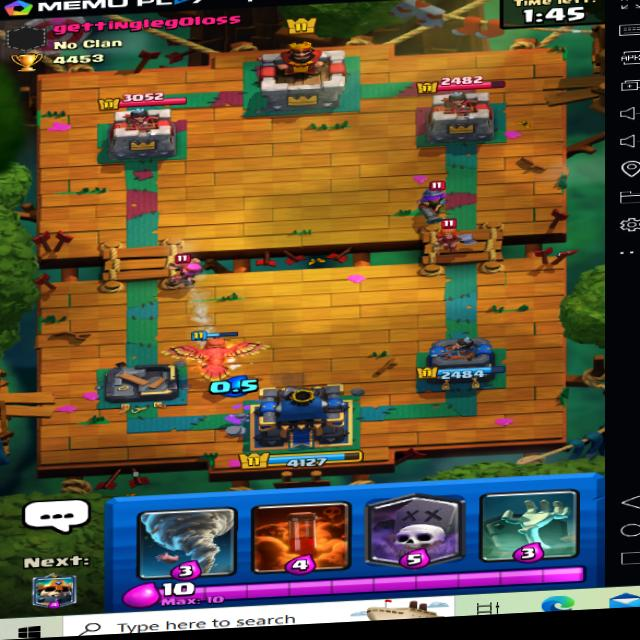firecracker: (166, 249, 210, 289)
musketeer: (414, 175, 460, 219)
valkyrie: (415, 217, 495, 254)
